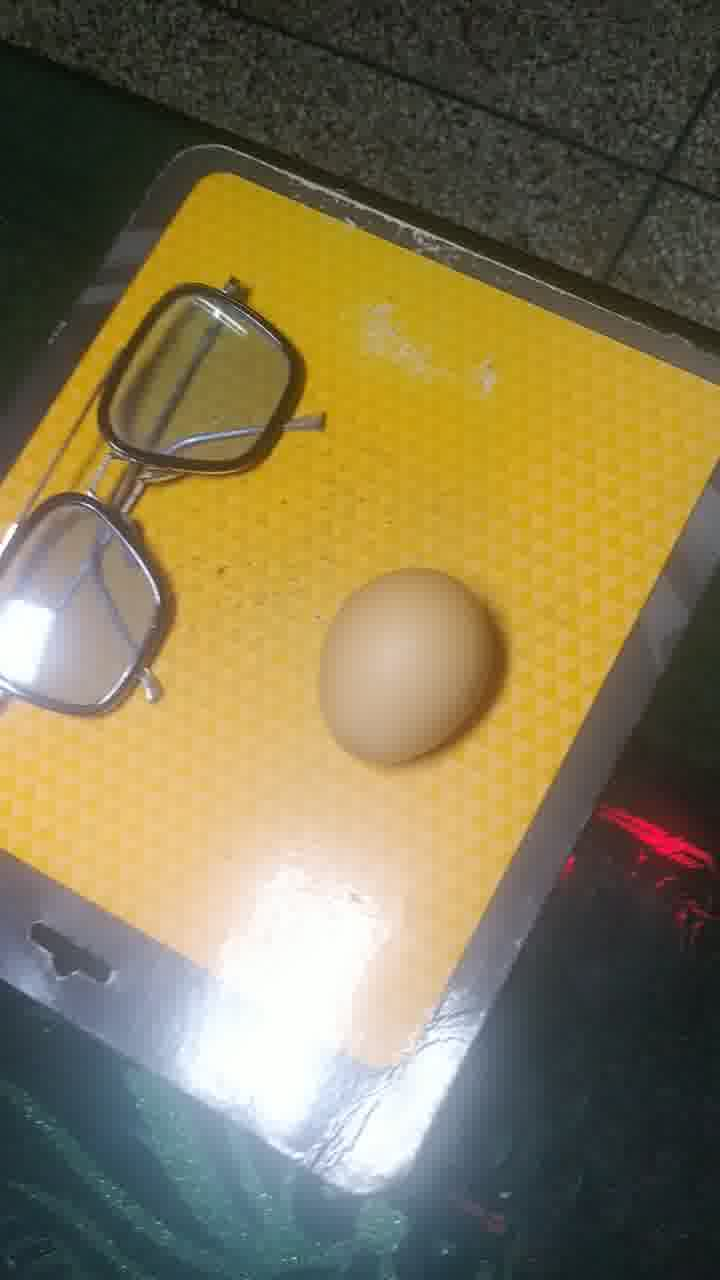egg: (314, 564, 506, 764)
sunglass: (6, 264, 323, 741)
